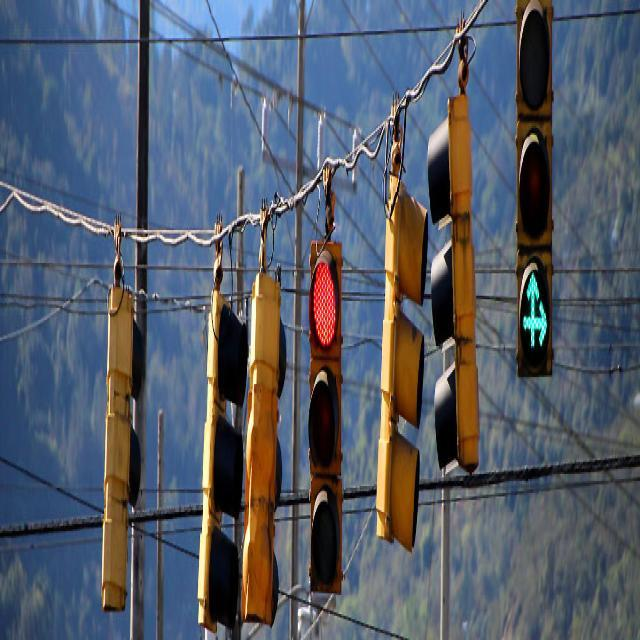suv: (376, 144, 428, 552), (427, 92, 480, 474), (197, 282, 248, 632), (241, 268, 286, 625), (101, 280, 143, 611), (515, 0, 552, 375), (308, 236, 342, 594)
